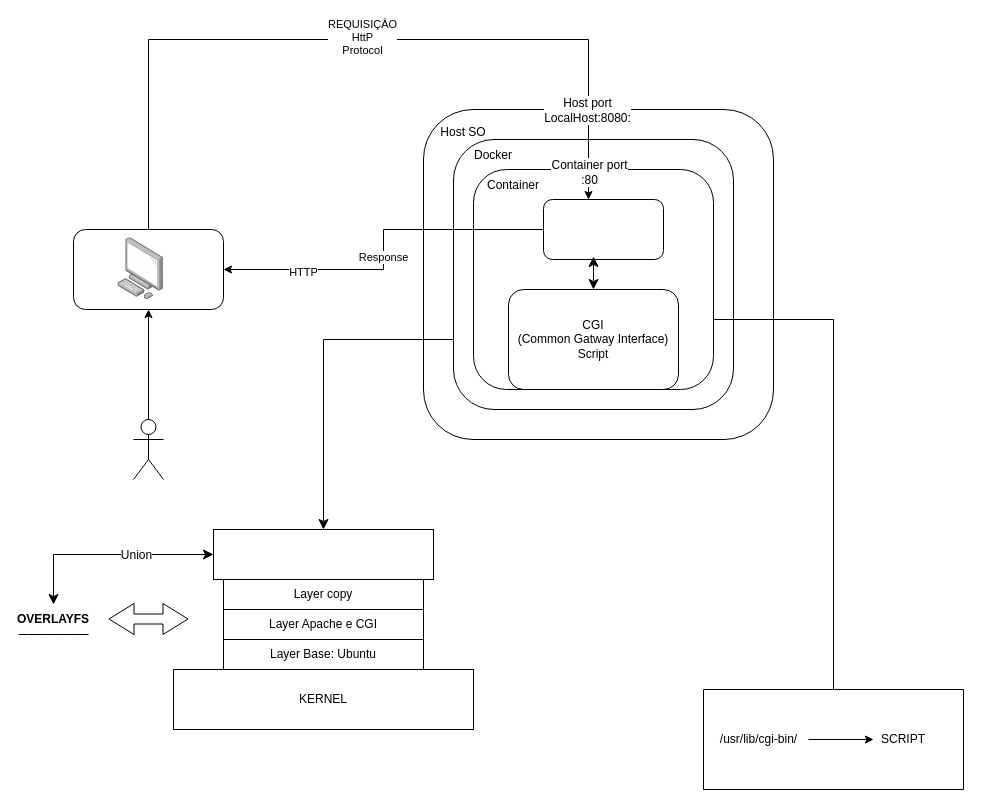
Some shapes in this 981 by 807 pixel diagram are drawn without their labels. Here are the shapes that lost their labels. From the top down, the centre of each, then its label:
At (x=603, y=229): "Apache module_CGI".
At (x=148, y=449): "Actor".
At (x=323, y=554): "CONTAINER / WRITETABLE".
